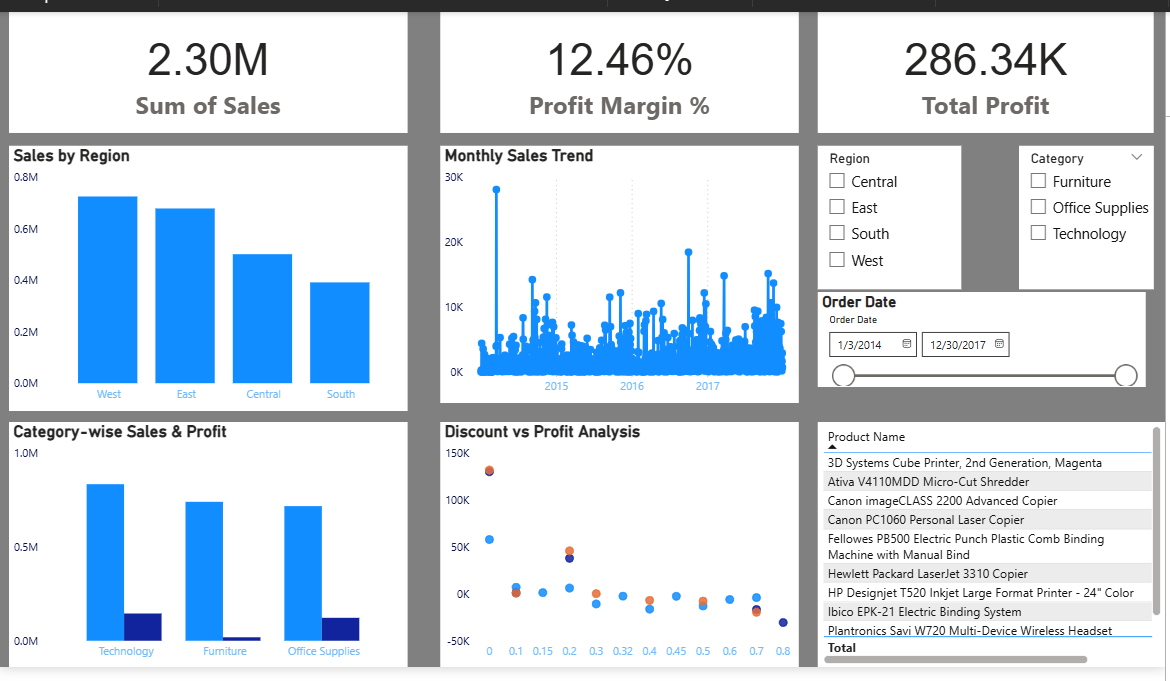

The dashboard page shown, as its layout file describes it:
{"tool":"powerbi","page":{"name":"Page 1","canvas":[1280,720],"ordinal":0},"visuals":[{"type":"card","fields":{"Values":["superstore.Total Profit"]},"box":[898.8,0,369.1,133.1],"z":1000},{"type":"card","fields":{"Values":["superstore.Profit Margin %"]},"box":[484.4,0,393.8,133.1],"z":2000},{"type":"clusteredColumnChart","title":"Sales by Region","fields":{"Category":["superstore.Region"],"Y":["Sum(superstore.Sales)"]},"box":[11,146.8,437.7,290.9],"z":3000},{"type":"clusteredColumnChart","title":"Category-wise Sales & Profit","fields":{"Category":["superstore.Category"],"Y":["Sum(superstore.Sales)","Sum(superstore.Profit)"]},"box":[11,450.1,437.7,270.3],"z":4000},{"type":"lineChart","title":"Monthly Sales Trend","fields":{"Category":["superstore.Order Date"],"Y":["Sum(superstore.Sales)"]},"box":[484.4,146.8,393.8,282.7],"z":5000},{"type":"scatterChart","title":"Discount vs Profit Analysis","fields":{"X":["superstore.Discount"],"Y":["Sum(superstore.Profit)"],"Series":["superstore.Category"]},"box":[484.4,450.1,393.8,270.3],"z":6000},{"type":"slicer","fields":{"Values":["superstore.Region"]},"box":[898.8,146.8,157.8,157.8],"z":6001},{"type":"slicer","fields":{"Values":["superstore.Category"]},"box":[1119.7,146.8,148.2,157.8],"z":6002},{"type":"slicer","title":"Order Date","fields":{"Values":["superstore.Order Date"]},"box":[898.8,307.4,359.5,102.9],"z":6003},{"type":"tableEx","fields":{"Values":["superstore.Product Name","Sum(superstore.Profit)"]},"box":[898.8,450.1,381.5,270.3],"z":6004},{"type":"card","fields":{"Values":["Sum(superstore.Sales)"]},"box":[11,0,437.7,133.1],"z":6011}]}

Visuals, with their boxes in screenshot pixels (x1, y1, x2, y2):
card - superstore.Total Profit: left=813, top=9, right=1146, bottom=129
card - superstore.Profit Margin %: left=440, top=9, right=795, bottom=129
"Sales by Region" clusteredColumnChart: left=13, top=141, right=408, bottom=404
"Category-wise Sales & Profit" clusteredColumnChart: left=13, top=415, right=408, bottom=659
"Monthly Sales Trend" lineChart: left=440, top=141, right=795, bottom=396
"Discount vs Profit Analysis" scatterChart: left=440, top=415, right=795, bottom=659
slicer - superstore.Region: left=813, top=141, right=956, bottom=284
slicer - superstore.Category: left=1012, top=141, right=1146, bottom=284
"Order Date" slicer: left=813, top=286, right=1137, bottom=379
tableEx - superstore.Product Name x Sum(superstore.Profit): left=813, top=415, right=1157, bottom=659
card - Sum(superstore.Sales): left=13, top=9, right=408, bottom=129
